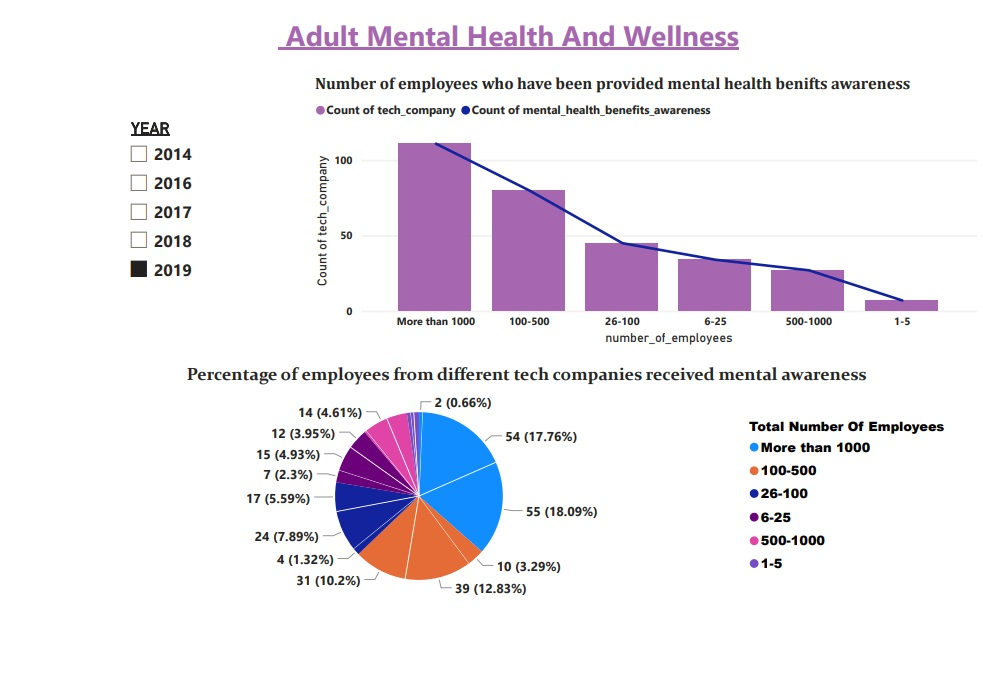

The page's visual inventory and layout, read from the dashboard file:
{"tool":"powerbi","page":{"name":"Page 1","canvas":[1280,720],"ordinal":0},"visuals":[{"type":"group","id":"g1","title":"Group 2","box":[145.3,87.7,1024.4,609.1],"z":0},{"type":"group","id":"g2","title":"Group 1","box":[185,87.7,984.7,315.5],"z":0,"group":"g1"},{"type":"slicer","fields":{"Values":["Mental health in tech survey 2014-2019.year"]},"box":[185,134.7,194.7,224.9],"z":0,"group":"g2"},{"type":"textbox","box":[38.4,15.1,1155.8,52.1],"z":1000},{"type":"lineStackedColumnComboChart","title":"Number of employees who have been provided mental health benifts awareness","fields":{"Category":["Mental health in tech survey 2014-2019.number_of_employees"],"Y":["CountNonNull(Mental health in tech survey 2014-2019.tech_company)"],"Y2":["CountNonNull(Mental health in tech survey 2014-2019.mental_health_benefits_awareness)"]},"box":[403.3,87.7,766.4,315.5],"z":1000,"group":"g2"},{"type":"pieChart","title":"Percentage of employees from different tech companies received mental awareness","fields":{"Category":["Mental health in tech survey 2014-2019.number_of_employees"],"Y":["CountNonNull(Mental health in tech survey 2014-2019.tech_company)"],"Series":["Mental health in tech survey 2014-2019.mental_health_benefits_awareness"]},"box":[145.3,418.5,1010.5,278.3],"z":1000,"group":"g1"}]}

Visuals, with their boxes on the page's 1280x720 design canvas (x1, y1, x2, y2). These are canvas units, not pixel positions in the 983x693 screenshot, which may show the page scaled, cropped or inside an application window:
"Group 2" group: pyautogui.locateOnScreen(145, 88, 1170, 697)
"Group 1" group: pyautogui.locateOnScreen(185, 88, 1170, 403)
slicer - Mental health in tech survey 2014-2019.year: pyautogui.locateOnScreen(185, 135, 380, 360)
textbox: pyautogui.locateOnScreen(38, 15, 1194, 67)
"Number of employees who have been provided mental health benifts awareness" lineStackedColumnComboChart: pyautogui.locateOnScreen(403, 88, 1170, 403)
"Percentage of employees from different tech companies received mental awareness" pieChart: pyautogui.locateOnScreen(145, 418, 1156, 697)
